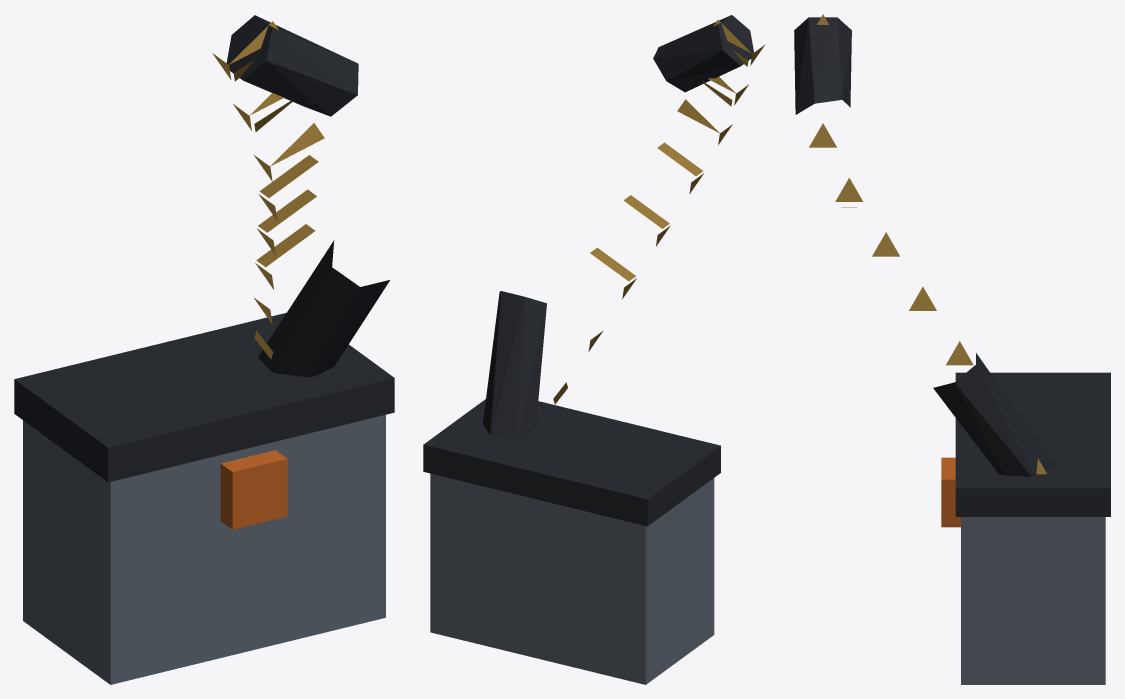
Rendered from ammo-feed-belt.lod.glb.
The picture shows the model from 3 angles, left to right: view 1: azimuth 30°, elevation 25°; view 2: azimuth 150°, elevation 25°; view 3: azimuth 270°, elevation 25°; orthographic projection. The views are drawn at different scales.
Parts seen in each view (by area): view 1: m; view 2: m; view 3: m.
Part boxes in pixels (x1=…): m: x1=14, y1=15, x2=394, y2=684; m: x1=423, y1=15, x2=764, y2=684; m: x1=794, y1=14, x2=1110, y2=684.
Bounding box in the file's own units: 0.0844 × 0.2008 × 0.0978.
